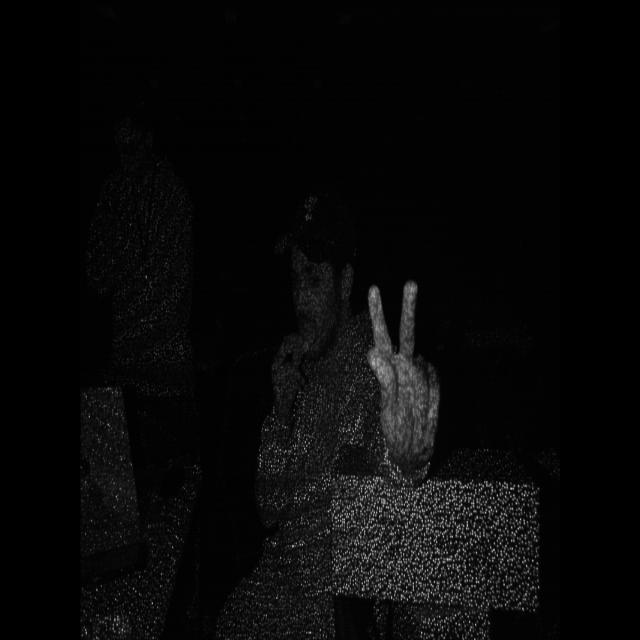K: (356, 266, 448, 492)
